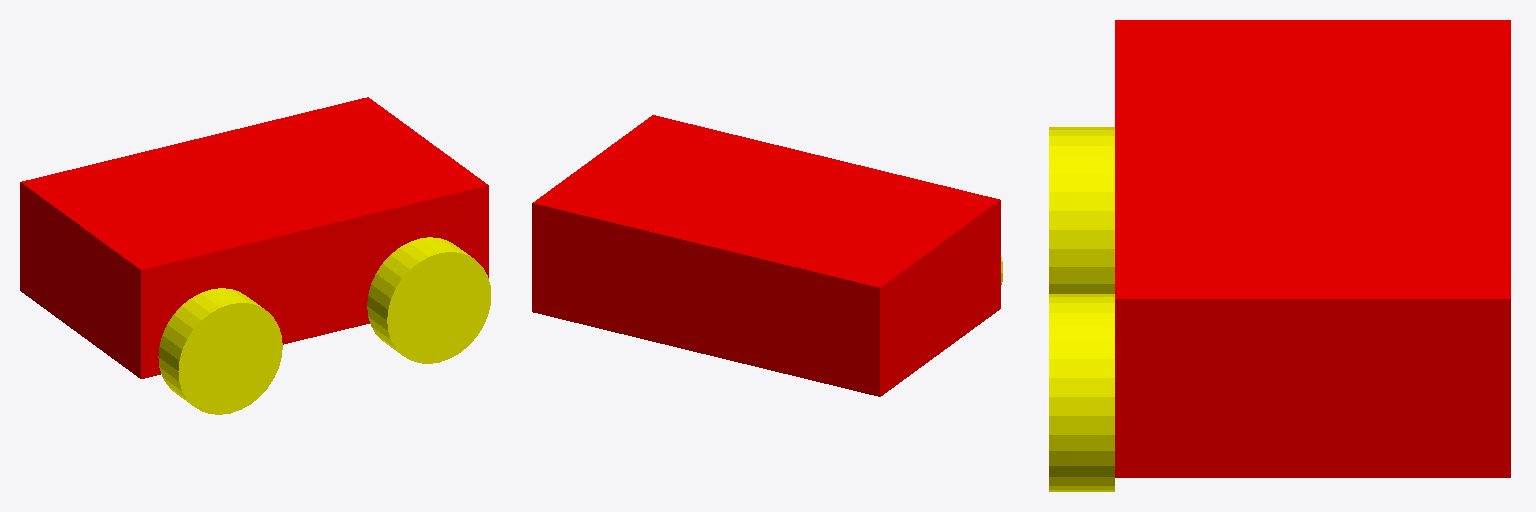
The robot description file, URDF, robot "jdamr":
<?xml version="1.0" ?>
<!-- /*MIT License

Copyright (c) 2024 JD edu. http://jdedu.kr author: [email redacted]
     
Permission is hereby granted, free of charge, to any person obtaining a copy
of this software and associated documentation files (the "Software"), to deal
in the Software without restriction, including without limitation the rights
to use, copy, modify, merge, publish, distribute, sublicense, and/or sell
copies of the Software, and to permit persons to whom the Software is
furnished to do so, subject to the following conditions:
     
The above copyright notice and this permission notice shall be included in all
copies or substantial portions of the Software.
     
THE SOFTWARE IS PROVIDED "AS IS", WITHOUT WARRANTY OF ANY KIND, EXPRESS OR
IMPLIED, INCLUDING BUT NOT LIMITED TO THE WARRANTIES OF MERCHANTABILITY,
FITNESS FOR A PARTICULAR PURPOSE AND NONINFRINGEMENT. IN NO EVENT SHALL THE
AUTHORS OR COPYRIGHT [author] ANY CLAIM, DAMAGES OR OTHER
LIABILITY, WHETHER IN AN ACTION OF CONTRACT, TORT OR OTHERWISE, ARISING FROM,
OUT OF OR IN CONNECTION WITH THE SOFTWARE OR THE USE OR OTHER DEALINGS IN TH
SOFTWARE.*/-->

<robot name="jdamr">
    <!-- robot body link  -->
    <link name="body_link">
        <visual>
            <origin rpy="0 0 0" xyz="0 0 0"/> <!-- rpy: roll pitch yaw origin: origin point-->
            <geometry>
                <box size="1 0.6 0.3"/>  <!-- box size -->
            </geometry>
            <material name="red">
                <color rgba="1 0 0 1"/>
            </material>
        </visual>
    </link>
     <joint name="wheel1_joint" type="continuous">
        <parent link="body_link"/>
        <child link="wheel1_link" />
        <origin xyz="-0.3 -0.35 -0.1" rpy="0 0 0"/>
        <axis xyz="0 1 0" />
    </joint>
    <link name="wheel1_link">
        <visual>
            <origin rpy="1.570795 0 0" xyz="0 0 0"/>
            <geometry>
                <cylinder length="0.1" radius="0.15"/>
            </geometry>
            <material name="yellow">
                <color rgba="1 1 0 1"/>
            </material>
        </visual>
    </link>
         <joint name="wheel2_joint" type="continuous">
        <parent link="body_link"/>
        <child link="wheel2_link" />
        <origin xyz="0.3 -0.35 -0.1" rpy="0 0 0"/>
        <axis xyz="0 1 0" />
    </joint>
    <link name="wheel2_link">
        <visual>
            <origin rpy="1.570795 0 0" xyz="0 0 0"/>
            <geometry>
                <cylinder length="0.1" radius="0.15"/>
            </geometry>
            <material name="yellow">
                <color rgba="1 1 0 1"/>
            </material>
        </visual>
    </link>
</robot>

--- What the picture shows (computed from the rendered views, not written in the file) ---
The picture shows the robot from 3 angles, left to right: view 1: azimuth 30°, elevation 25°; view 2: azimuth 150°, elevation 25°; view 3: azimuth 270°, elevation 25°; orthographic projection.
Model jdamr with 3 links and 2 joints (2 continuous), rooted at body_link, posed every joint at zero.
Links seen in each view (by area): view 1: body_link, wheel1_link, wheel2_link; view 2: body_link; view 3: body_link, wheel2_link, wheel1_link.
Boxes of the visible links, left/top/right/bottom form: body_link: left=20, top=97, right=488, bottom=378; wheel1_link: left=158, top=288, right=282, bottom=414; wheel2_link: left=367, top=237, right=490, bottom=363; body_link: left=532, top=115, right=1000, bottom=396; body_link: left=1115, top=20, right=1510, bottom=477; wheel2_link: left=1049, top=294, right=1114, bottom=491; wheel1_link: left=1049, top=127, right=1114, bottom=293.
Size in the robot's own frame: 1 by 0.7 by 0.4 metres.
Geometry: primitives only (box / cylinder / sphere), no mesh files.
